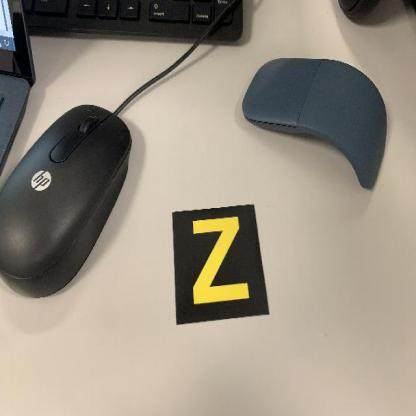z: (172, 202, 272, 327)
